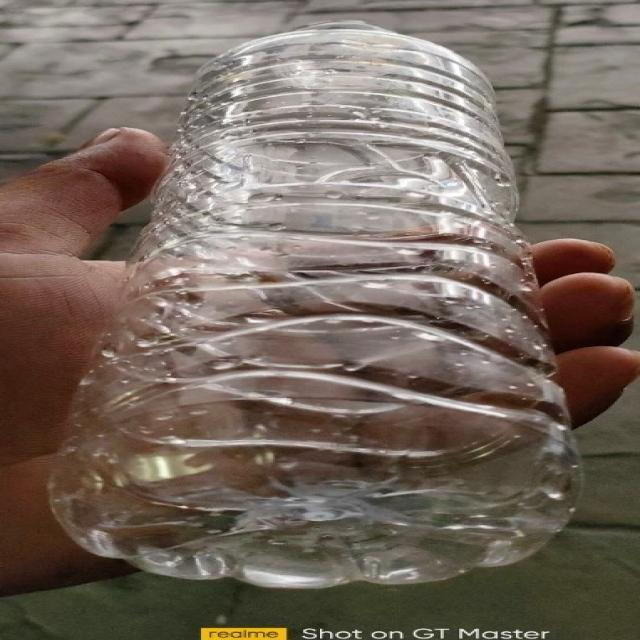bottle: (57, 18, 584, 589)
